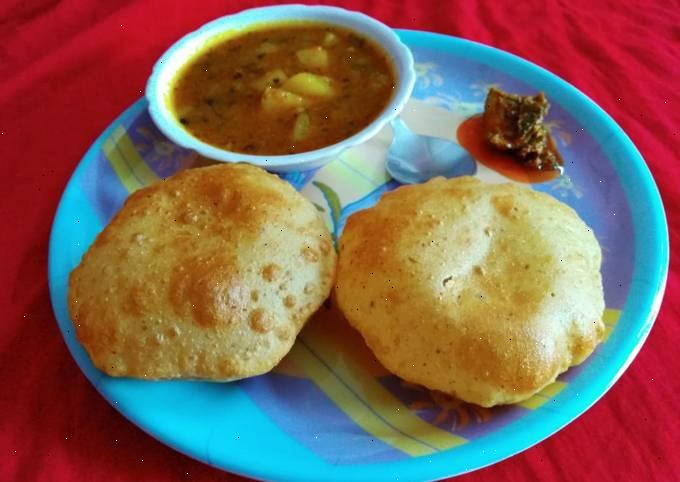puri: (72, 165, 598, 430)
